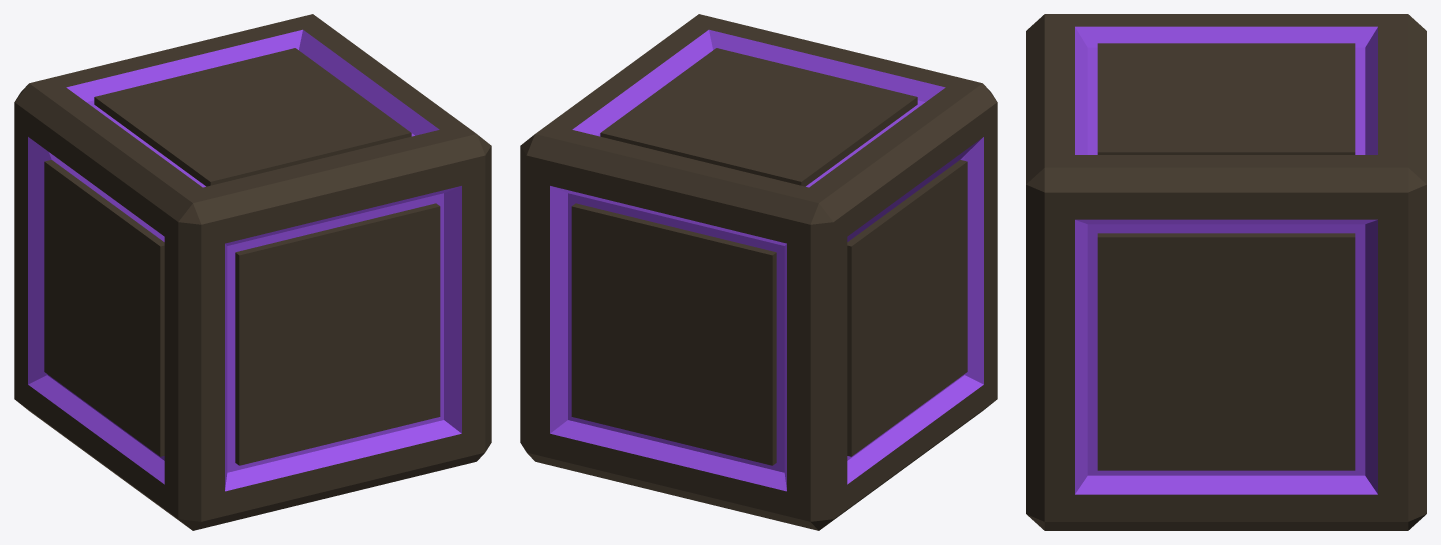
The picture shows the model from 3 angles, left to right: view 1: azimuth 30°, elevation 25°; view 2: azimuth 150°, elevation 25°; view 3: azimuth 270°, elevation 25°; orthographic projection. The views are drawn at different scales.
Visible parts, largest first — view 1: Cube; view 2: Cube; view 3: Cube.
Boxes of the visible parts, x1,y1,x2,y2 form: Cube: (14,14,491,530); Cube: (520,14,997,530); Cube: (1026,14,1426,530).
Bounding box in the file's own units: 200 × 200 × 200.
